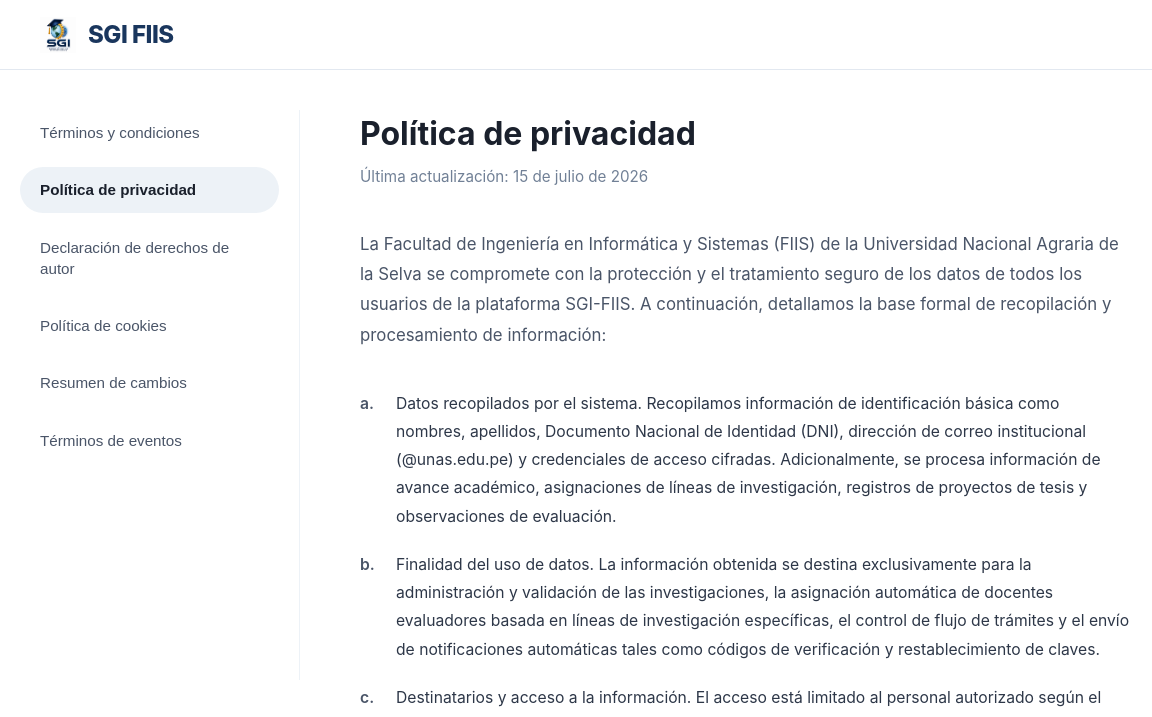
it: PrivacyPolicyPage › switches tabs and navigates correctly when sidebar links are clicked
Click "Términos y condiciones"
What coordinates should you click on to do the following:
click the button "Términos y condiciones"
I would click on:
 (150, 133)
Its box is [20,110,279,155].
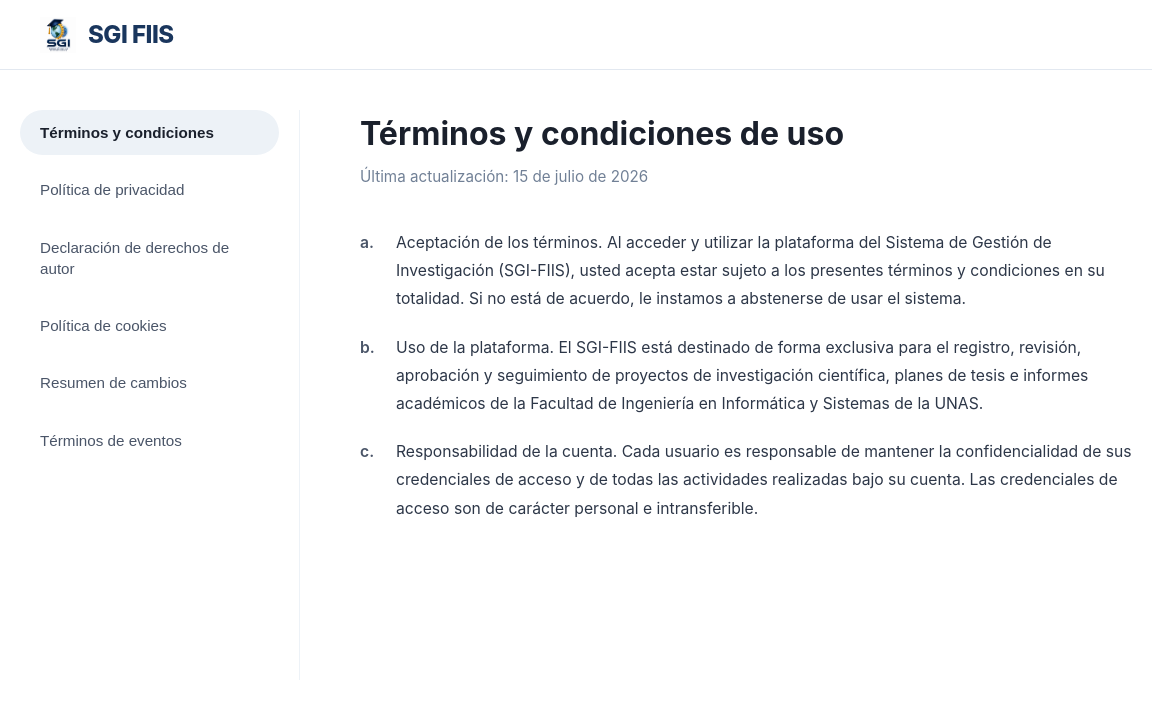
Now the heading "Términos y condiciones de uso" is shown, box [360,114,844,153]
Click "Declaración de derechos de autor"
What coordinates should you click on to do the following:
click the button "Declaración de derechos de autor"
I would click on:
 (150, 258)
Its box is [20,225,279,291].
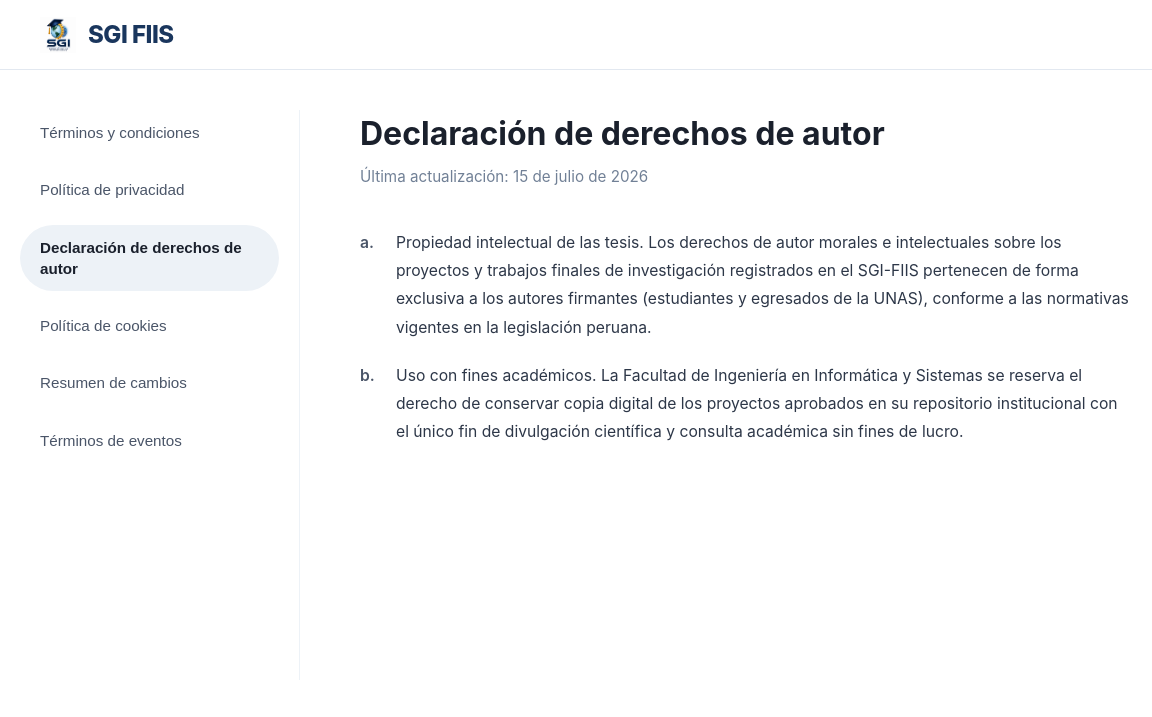
Now the heading "Declaración de derechos de autor" is shown, box [360,114,885,153]
Click "Política de cookies"
What coordinates should you click on to do the following:
click the button "Política de cookies"
I would click on:
 (150, 326)
Its box is [20,303,279,348].
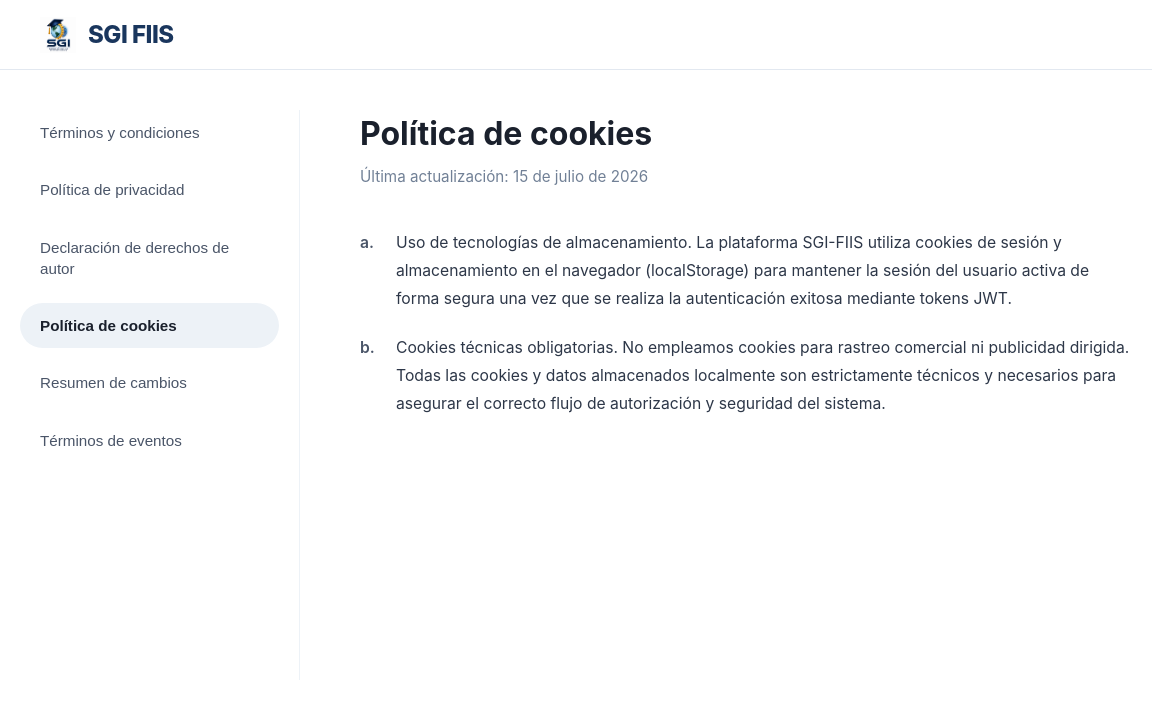
Now the heading "Política de cookies" is shown, box [360,114,652,153]
Click "Resumen de cambios"
What coordinates should you click on to do the following:
click the button "Resumen de cambios"
I would click on:
 (150, 383)
Its box is [20,360,279,406].
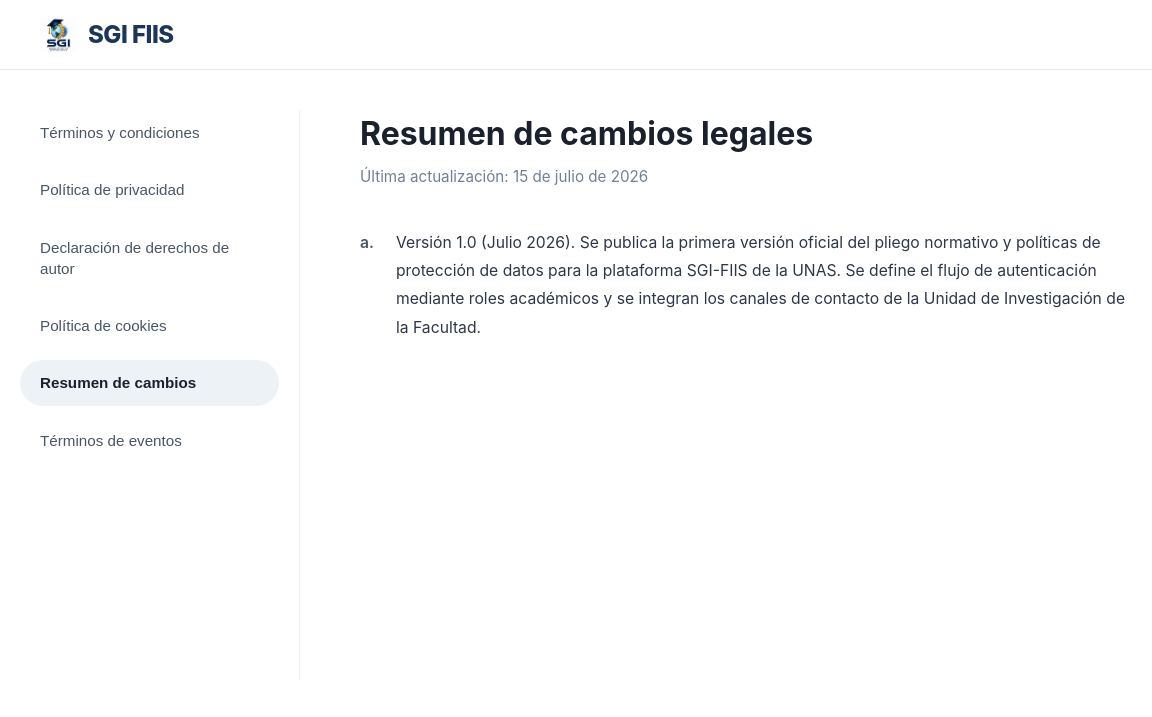
Now the heading "Resumen de cambios legales" is shown, box [360,114,813,153]
Click "Términos de eventos"
What coordinates should you click on to do the following:
click the button "Términos de eventos"
I would click on:
 (150, 440)
Its box is [20,418,279,463].
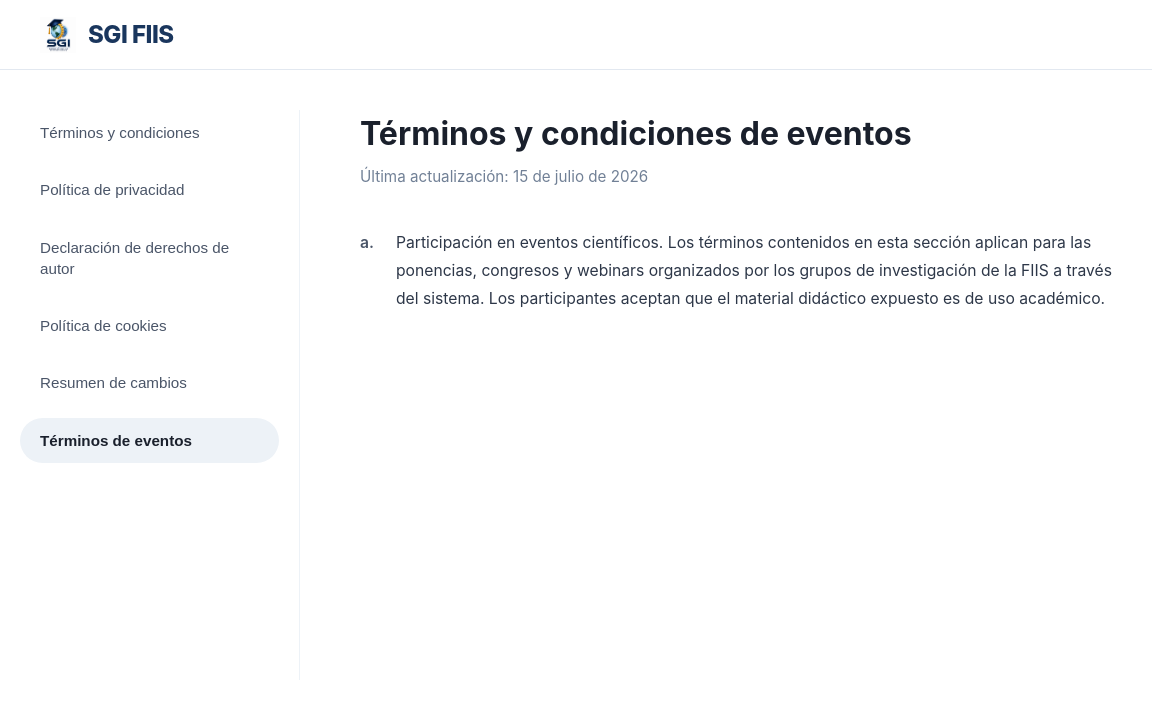
Now the heading "Términos y condiciones de eventos" is shown, box [360,114,912,153]
Click "Política de privacidad" to return to original tab
What coordinates should you click on to do the following:
click the button "Política de privacidad"
I would click on:
 (150, 190)
Its box is [20,167,279,213].
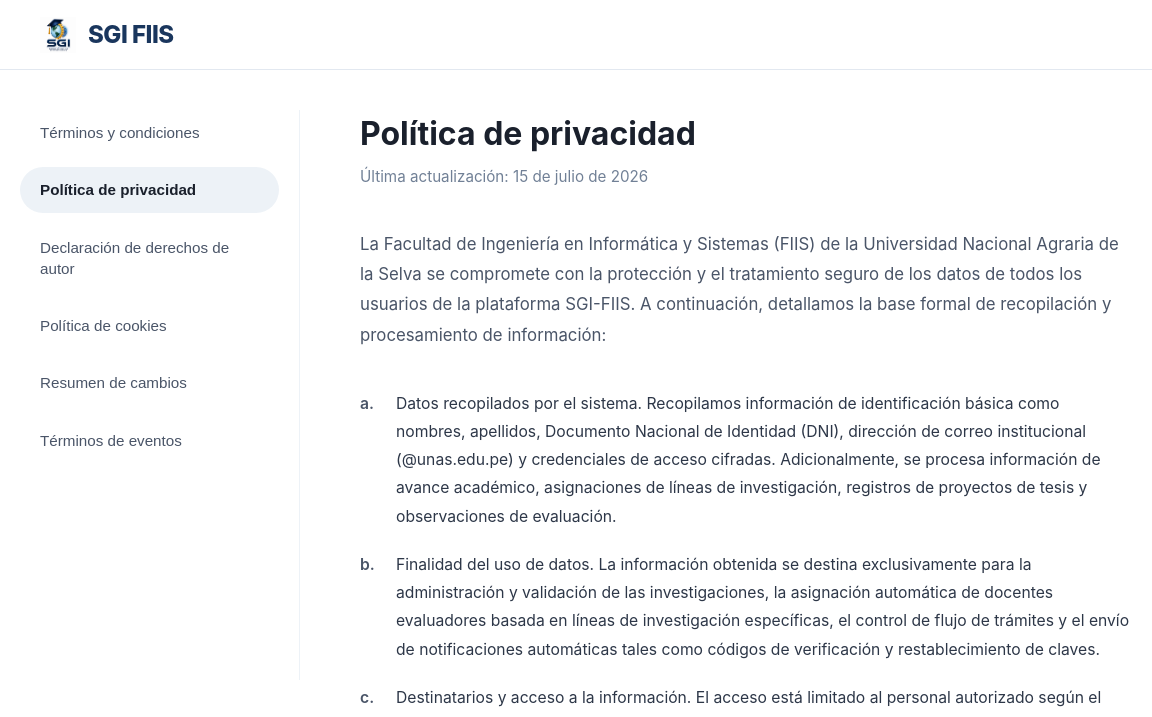
Now the heading "Política de privacidad" is shown, box [360,114,696,153]
